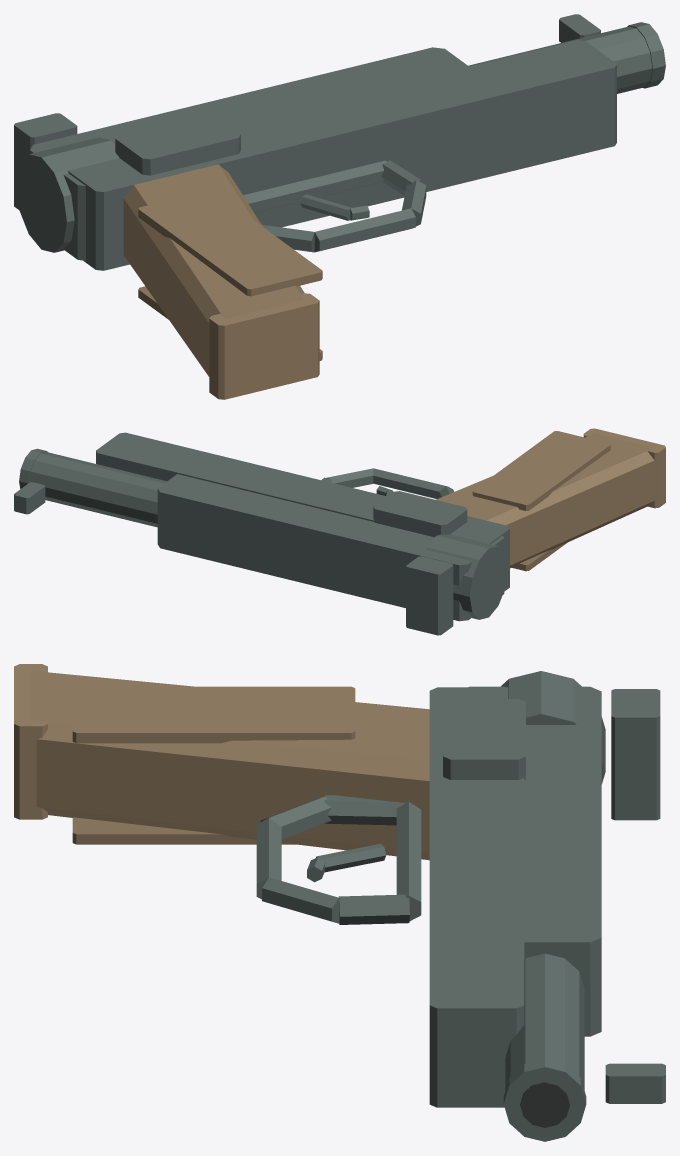
The model's file is weapon-nambu-14.glb.
The picture shows the model from 3 angles, top to bottom: view 1: azimuth 30°, elevation 25°; view 2: azimuth 150°, elevation 25°; view 3: azimuth 270°, elevation 25°; orthographic projection. The views are drawn at different scales.
Visible parts, largest first — view 1: weapon-nambu-14/lower-frame, weapon-nambu-14/eight-sided-grip, weapon-nambu-14/rear-receiver, weapon-nambu-14/independent-grip-panels-left, weapon-nambu-14/eight-sided-grip-heel, weapon-nambu-14/round-bolt-tail, weapon-nambu-14/grip-frame-shoulder, weapon-nambu-14/hollow-trigger-guard-1, weapon-nambu-14/exposed-round-barrel, weapon-nambu-14/hollow-trigger-guard-4, weapon-nambu-14/rear-sight, weapon-nambu-14/exposed-round-barrel-end-rim (+5 smaller); view 2: weapon-nambu-14/rear-receiver, weapon-nambu-14/eight-sided-grip, weapon-nambu-14/lower-frame, weapon-nambu-14/exposed-round-barrel, weapon-nambu-14/independent-grip-panels-left, weapon-nambu-14/round-bolt-tail, weapon-nambu-14/rear-sight, weapon-nambu-14/grip-frame-shoulder, weapon-nambu-14/eight-sided-grip-heel, weapon-nambu-14/hollow-trigger-guard-4, weapon-nambu-14/front-sight, weapon-nambu-14/hollow-trigger-guard-3 (+2 smaller); view 3: weapon-nambu-14/eight-sided-grip, weapon-nambu-14/lower-frame, weapon-nambu-14/rear-receiver, weapon-nambu-14/independent-grip-panels-left, weapon-nambu-14/exposed-round-barrel, weapon-nambu-14/grip-frame-shoulder, weapon-nambu-14/rear-sight, weapon-nambu-14/exposed-round-barrel-end-rim, weapon-nambu-14/eight-sided-grip-heel, weapon-nambu-14/round-bolt-tail, weapon-nambu-14/independent-grip-panels-right, weapon-nambu-14/hollow-trigger-guard-1 (+8 smaller).
Boxes of the visible parts, box(x1,y1,x2,y2) form: weapon-nambu-14/lower-frame: box(68, 40, 616, 270); weapon-nambu-14/eight-sided-grip: box(123, 164, 304, 376); weapon-nambu-14/rear-receiver: box(30, 47, 468, 260); weapon-nambu-14/independent-grip-panels-left: box(138, 190, 322, 296); weapon-nambu-14/eight-sided-grip-heel: box(209, 293, 319, 399); weapon-nambu-14/round-bolt-tail: box(16, 137, 119, 252); weapon-nambu-14/grip-frame-shoulder: box(115, 113, 240, 175); weapon-nambu-14/hollow-trigger-guard-1: box(243, 160, 386, 212); weapon-nambu-14/exposed-round-barrel: box(468, 26, 652, 93); weapon-nambu-14/hollow-trigger-guard-4: box(314, 208, 415, 252); weapon-nambu-14/rear-sight: box(14, 113, 77, 209); weapon-nambu-14/exposed-round-barrel-end-rim: box(627, 22, 665, 88); weapon-nambu-14/rear-receiver: box(157, 474, 504, 621); weapon-nambu-14/eight-sided-grip: box(436, 433, 654, 568); weapon-nambu-14/lower-frame: box(96, 432, 509, 591); weapon-nambu-14/exposed-round-barrel: box(29, 452, 166, 527); weapon-nambu-14/independent-grip-panels-left: box(472, 431, 610, 510); weapon-nambu-14/round-bolt-tail: box(426, 534, 507, 619); weapon-nambu-14/rear-sight: box(406, 556, 453, 635); weapon-nambu-14/grip-frame-shoulder: box(373, 491, 467, 537); weapon-nambu-14/eight-sided-grip-heel: box(583, 428, 665, 508); weapon-nambu-14/hollow-trigger-guard-4: box(373, 468, 449, 498); weapon-nambu-14/front-sight: box(14, 482, 45, 514); weapon-nambu-14/hollow-trigger-guard-3: box(326, 468, 373, 487); weapon-nambu-14/eight-sided-grip: box(31, 670, 429, 860); weapon-nambu-14/lower-frame: box(429, 687, 524, 1107); weapon-nambu-14/rear-receiver: box(468, 686, 601, 1036); weapon-nambu-14/independent-grip-panels-left: box(72, 686, 355, 743); weapon-nambu-14/exposed-round-barrel: box(505, 953, 584, 1090); weapon-nambu-14/grip-frame-shoulder: box(443, 699, 525, 779); weapon-nambu-14/rear-sight: box(611, 689, 660, 820); weapon-nambu-14/exposed-round-barrel-end-rim: box(503, 1059, 586, 1141); weapon-nambu-14/eight-sided-grip-heel: box(14, 664, 47, 819); weapon-nambu-14/round-bolt-tail: box(501, 671, 605, 784); weapon-nambu-14/independent-grip-panels-right: box(72, 817, 295, 844); weapon-nambu-14/hollow-trigger-guard-1: box(396, 802, 421, 920).
Bounding box in the file's own units: 0.247 × 0.041 × 0.1725.
Materials: 3 (3 with a texture image).
